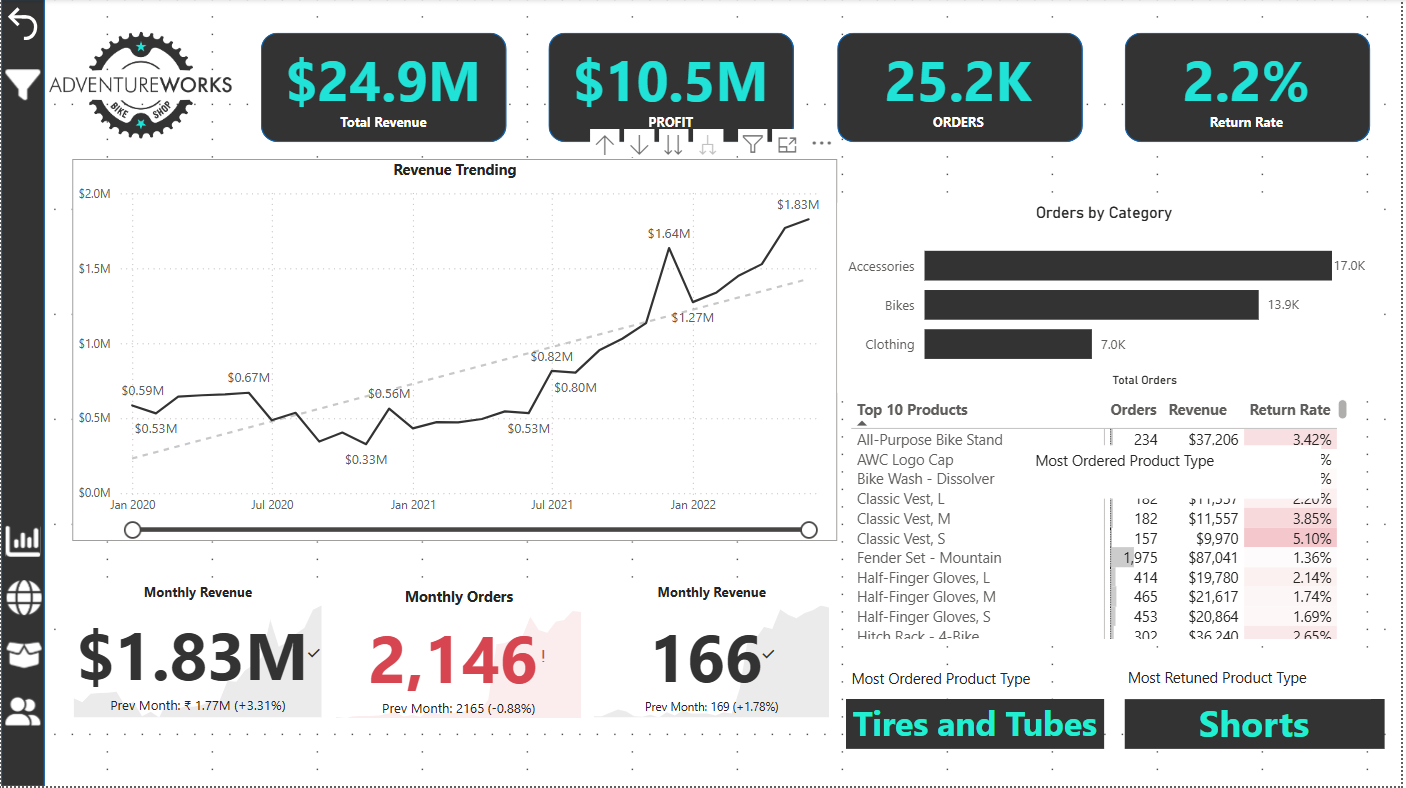

The page's visual inventory and layout, read from the dashboard file:
{"tool":"powerbi","page":{"name":"Exec Dashboard","canvas":[1280,720],"ordinal":0},"visuals":[{"type":"card","fields":{"Values":["Measure Table.Total Revenue"]},"box":[226.2,18.3,247,123.5],"z":0,"group":"g2"},{"type":"image","title":"logo","box":[0,23.2,255.6,112.5],"z":0},{"type":"group","id":"g1","title":"KPI Background","box":[237.2,30.5,1015,100.3],"z":0,"group":"g3"},{"type":"shape","box":[1026.8,30.5,225,100.3],"z":0,"group":"g1"},{"type":"shape","title":"left nav background","box":[0,0,40.4,720.2],"z":1000},{"type":"group","id":"g2","title":"KPI Values","box":[226.2,18.3,1026,123.5],"z":1000,"group":"g3"},{"type":"card","fields":{"Values":["Measure Table.Total Profit"]},"box":[462.2,24.4,299.6,112.5],"z":1000,"group":"g2"},{"type":"shape","box":[500.5,30.5,225,100.3],"z":1000,"group":"g1"},{"type":"group","id":"g3","title":"KPIS","box":[226.2,18.3,1026,123.5],"z":2000},{"type":"card","fields":{"Values":["Measure Table.Total Orders"]},"box":[725.1,24.4,299.6,112.5],"z":2000,"group":"g2"},{"type":"shape","box":[237.2,30.5,225,100.3],"z":2000,"group":"g1"},{"type":"card","fields":{"Values":["Measure Table.Return Rate"]},"box":[1024.7,24.4,227.4,112.5],"z":3000,"group":"g2"},{"type":"shape","box":[763.8,30.5,225,100.3],"z":3000,"group":"g1"},{"type":"lineChart","title":"Revenue Trending","fields":{"Y":["Measure Table.Total Revenue"],"Category":["Calendar Lookup.Year","Calendar Lookup.Start of Month","Calendar Lookup.Start of Quarter"]},"box":[64.8,146.7,699.5,349.7],"z":3000},{"type":"kpi","title":"Monthly Revenue","fields":{"Indicator":["Measure Table.Total Revenue"],"TrendLine":["Calendar Lookup.Start of Month"],"Goal":["Measure Table.Previous Month Revenue"]},"box":[62,533.8,236.6,128.4],"z":4000},{"type":"kpi","title":"Monthly Orders","fields":{"TrendLine":["Calendar Lookup.Start of Month"],"Indicator":["Measure Table.Total Orders"],"Goal":["Measure Table.Previous Month Orders"]},"box":[301.5,536.7,233.7,125.5],"z":5000},{"type":"kpi","title":"Monthly Revenue","fields":{"TrendLine":["Calendar Lookup.Start of Month"],"Indicator":["Measure Table.Total Returns"],"Goal":["Measure Table.Previous Month Returns"]},"box":[536.7,533.8,225.1,128.4],"z":6000},{"type":"barChart","title":"Orders by Category","fields":{"Category":["Product Categories Lookup.CategoryName"],"Y":["Measure Table.Total Orders"]},"box":[764.3,185.9,487.9,173.6],"z":7000},{"type":"pivotTable","fields":{"Rows":["Product Lookup.ProductName"],"Values":["Measure Table.Total Orders","Measure Table.Total Revenue","Measure Table.Return Rate"]},"box":[772.8,360.7,463.5,228.7],"z":8000},{"type":"card","fields":{"Values":["Min(Product Subcategories Lookup.SubcategoryName)"]},"box":[772.8,639.5,236,45.2],"z":9000},{"type":"card","fields":{"Values":["Min(Product Subcategories Lookup.SubcategoryName)"]},"box":[1027.2,639.5,237.2,45.2],"z":10000},{"type":"textbox","box":[940.4,408.4,266.6,48.9],"z":11000},{"type":"textbox","box":[772.8,606.5,232.3,33],"z":12000},{"type":"textbox","box":[1024.7,605.3,227.4,34.2],"z":13000},{"type":"actionButton","box":[0,0,40.4,45.2],"z":14000},{"type":"actionButton","box":[1.2,525.8,40.4,42.8],"z":15000},{"type":"actionButton","box":[1.2,578.4,40.4,42.8],"z":16000},{"type":"actionButton","box":[0,474.5,40.4,42.8],"z":17000},{"type":"actionButton","box":[0,629.8,40.4,42.8],"z":18000},{"type":"actionButton","box":[0,56.3,40.4,45.2],"z":19000}]}

Visuals, with their boxes on the page's 1280x720 design canvas (x1, y1, x2, y2). These are canvas units, not pixel positions in the 1406x788 screenshot, which may show the page scaled, cropped or inside an application window:
card - Measure Table.Total Revenue: 226 18 473 142
"logo" image: 0 23 256 136
"KPI Background" group: 237 30 1252 131
shape: 1027 30 1252 131
"left nav background" shape: 0 0 40 720
"KPI Values" group: 226 18 1252 142
card - Measure Table.Total Profit: 462 24 762 137
shape: 500 30 726 131
"KPIS" group: 226 18 1252 142
card - Measure Table.Total Orders: 725 24 1025 137
shape: 237 30 462 131
card - Measure Table.Return Rate: 1025 24 1252 137
shape: 764 30 989 131
"Revenue Trending" lineChart: 65 147 764 496
"Monthly Revenue" kpi: 62 534 299 662
"Monthly Orders" kpi: 302 537 535 662
"Monthly Revenue" kpi: 537 534 762 662
"Orders by Category" barChart: 764 186 1252 360
pivotTable - Product Lookup.ProductName x Measure Table.Total Orders: 773 361 1236 589
card - Min(Product Subcategories Lookup.SubcategoryName): 773 640 1009 685
card - Min(Product Subcategories Lookup.SubcategoryName): 1027 640 1264 685
textbox: 940 408 1207 457
textbox: 773 606 1005 640
textbox: 1025 605 1252 640
actionButton: 0 0 40 45
actionButton: 1 526 42 569
actionButton: 1 578 42 621
actionButton: 0 474 40 517
actionButton: 0 630 40 673
actionButton: 0 56 40 102
